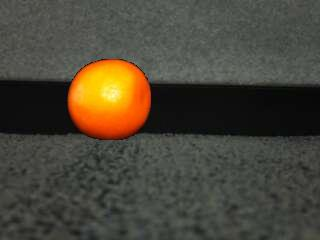Orange: (66, 56, 154, 142)
